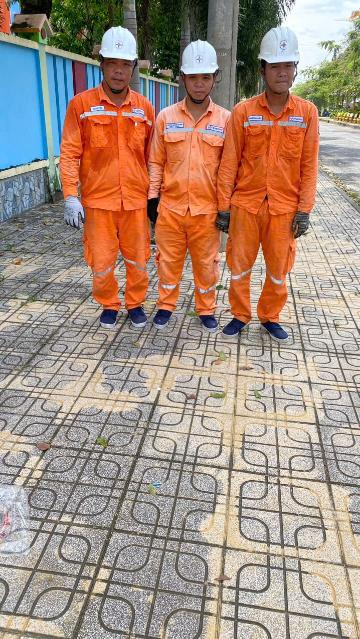gloves: (58, 197, 90, 234), (292, 203, 315, 240), (209, 208, 239, 235), (143, 193, 167, 221)
helmet: (251, 24, 304, 71), (95, 20, 143, 60), (176, 39, 219, 77)
shoes: (256, 313, 294, 345), (216, 307, 253, 338), (147, 297, 176, 331), (93, 300, 122, 333), (120, 302, 152, 330), (194, 315, 218, 335)
